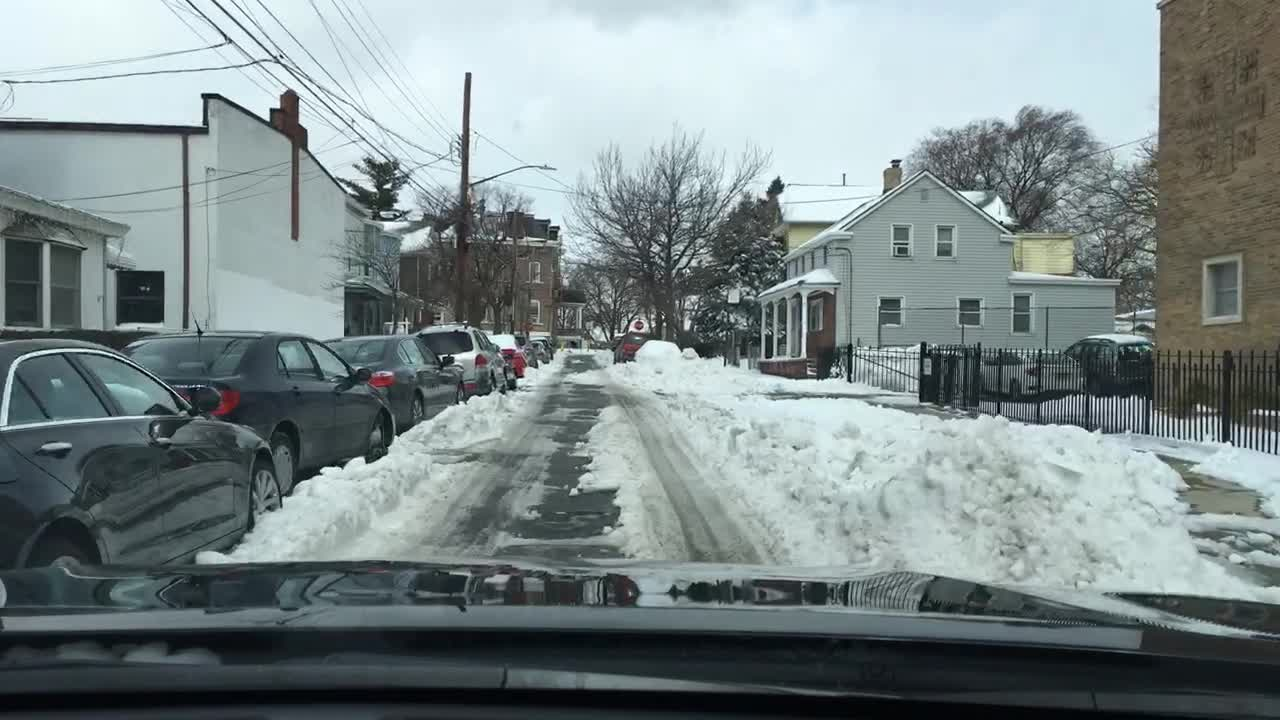car: (0, 339, 282, 572), (116, 328, 396, 501), (321, 332, 466, 436), (412, 319, 515, 395), (975, 345, 1088, 404), (1062, 333, 1155, 398), (485, 332, 524, 379), (614, 329, 652, 366), (529, 336, 554, 360), (527, 342, 552, 365), (519, 340, 539, 368), (610, 336, 622, 352)
traffic sign: (634, 320, 643, 330)
